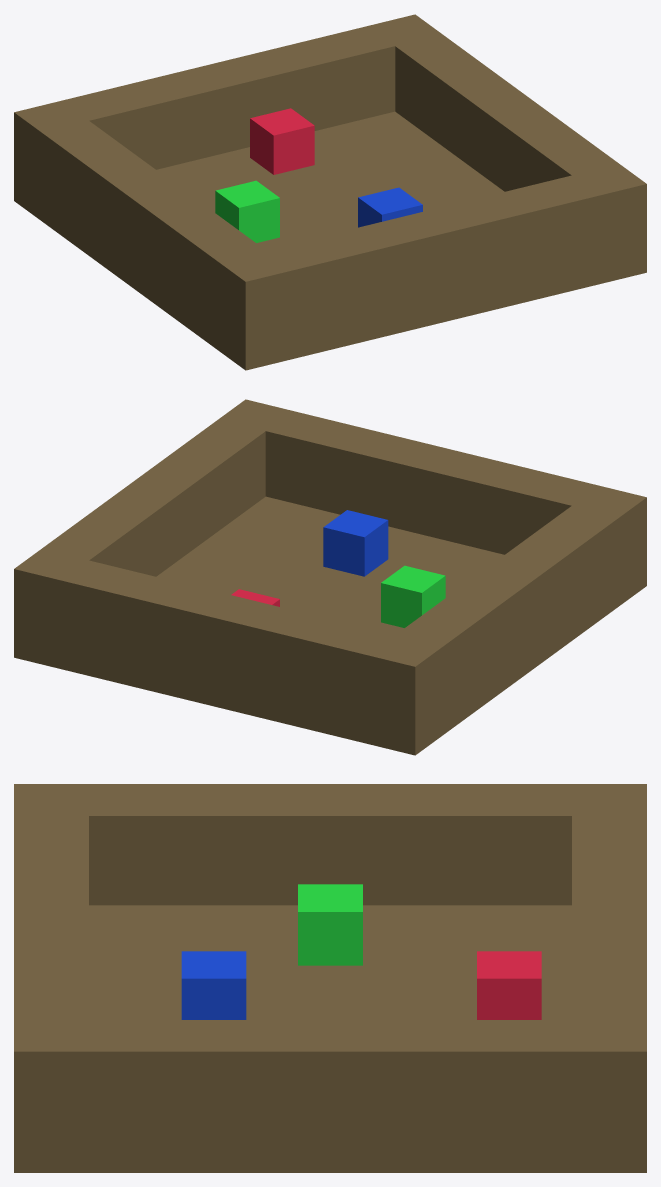
Rendered from map.fbx.
The picture shows the model from 3 angles, top to bottom: view 1: azimuth 30°, elevation 25°; view 2: azimuth 150°, elevation 25°; view 3: azimuth 270°, elevation 25°; orthographic projection. The views are drawn at different scales.
Parts seen in each view (by area): view 1: Cube, Cube.002, Cube.001, Cube.003; view 2: Cube, Cube.003, Cube.001; view 3: Cube, Cube.001, Cube.003, Cube.002.
Part boxes in pixels (left/top/right/bottom): Cube: left=14, top=14, right=646, bottom=370; Cube.002: left=250, top=108, right=314, bottom=174; Cube.001: left=215, top=180, right=279, bottom=242; Cube.003: left=358, top=187, right=422, bottom=227; Cube: left=14, top=399, right=646, bottom=755; Cube.003: left=323, top=510, right=388, bottom=576; Cube.001: left=381, top=565, right=445, bottom=627; Cube: left=14, top=784, right=646, bottom=1172; Cube.001: left=298, top=884, right=362, bottom=965; Cube.003: left=181, top=951, right=246, bottom=1019; Cube.002: left=477, top=951, right=541, bottom=1019.
Size of the model in its own units: 200 by 200 by 42.24.
